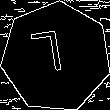L_S: (37, 29, 75, 85)
